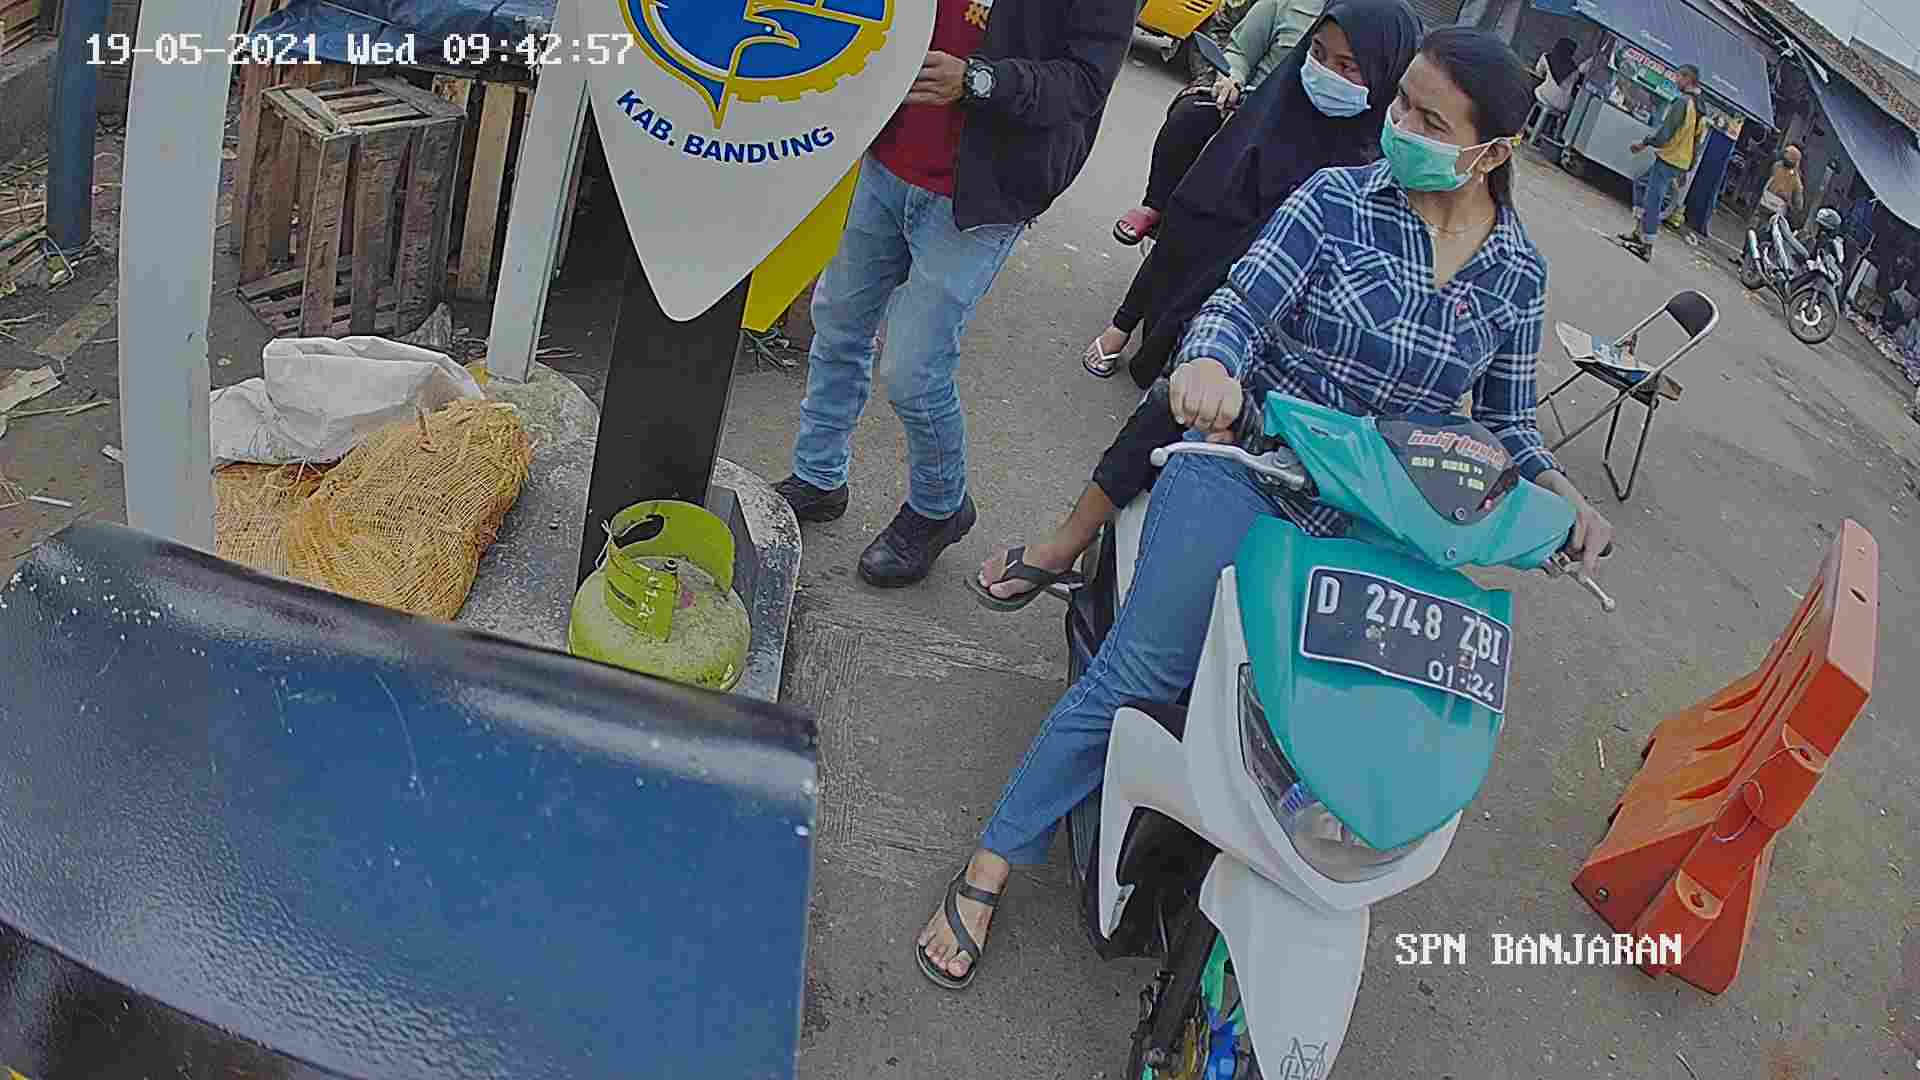motor: (1120, 380, 1534, 1080)
